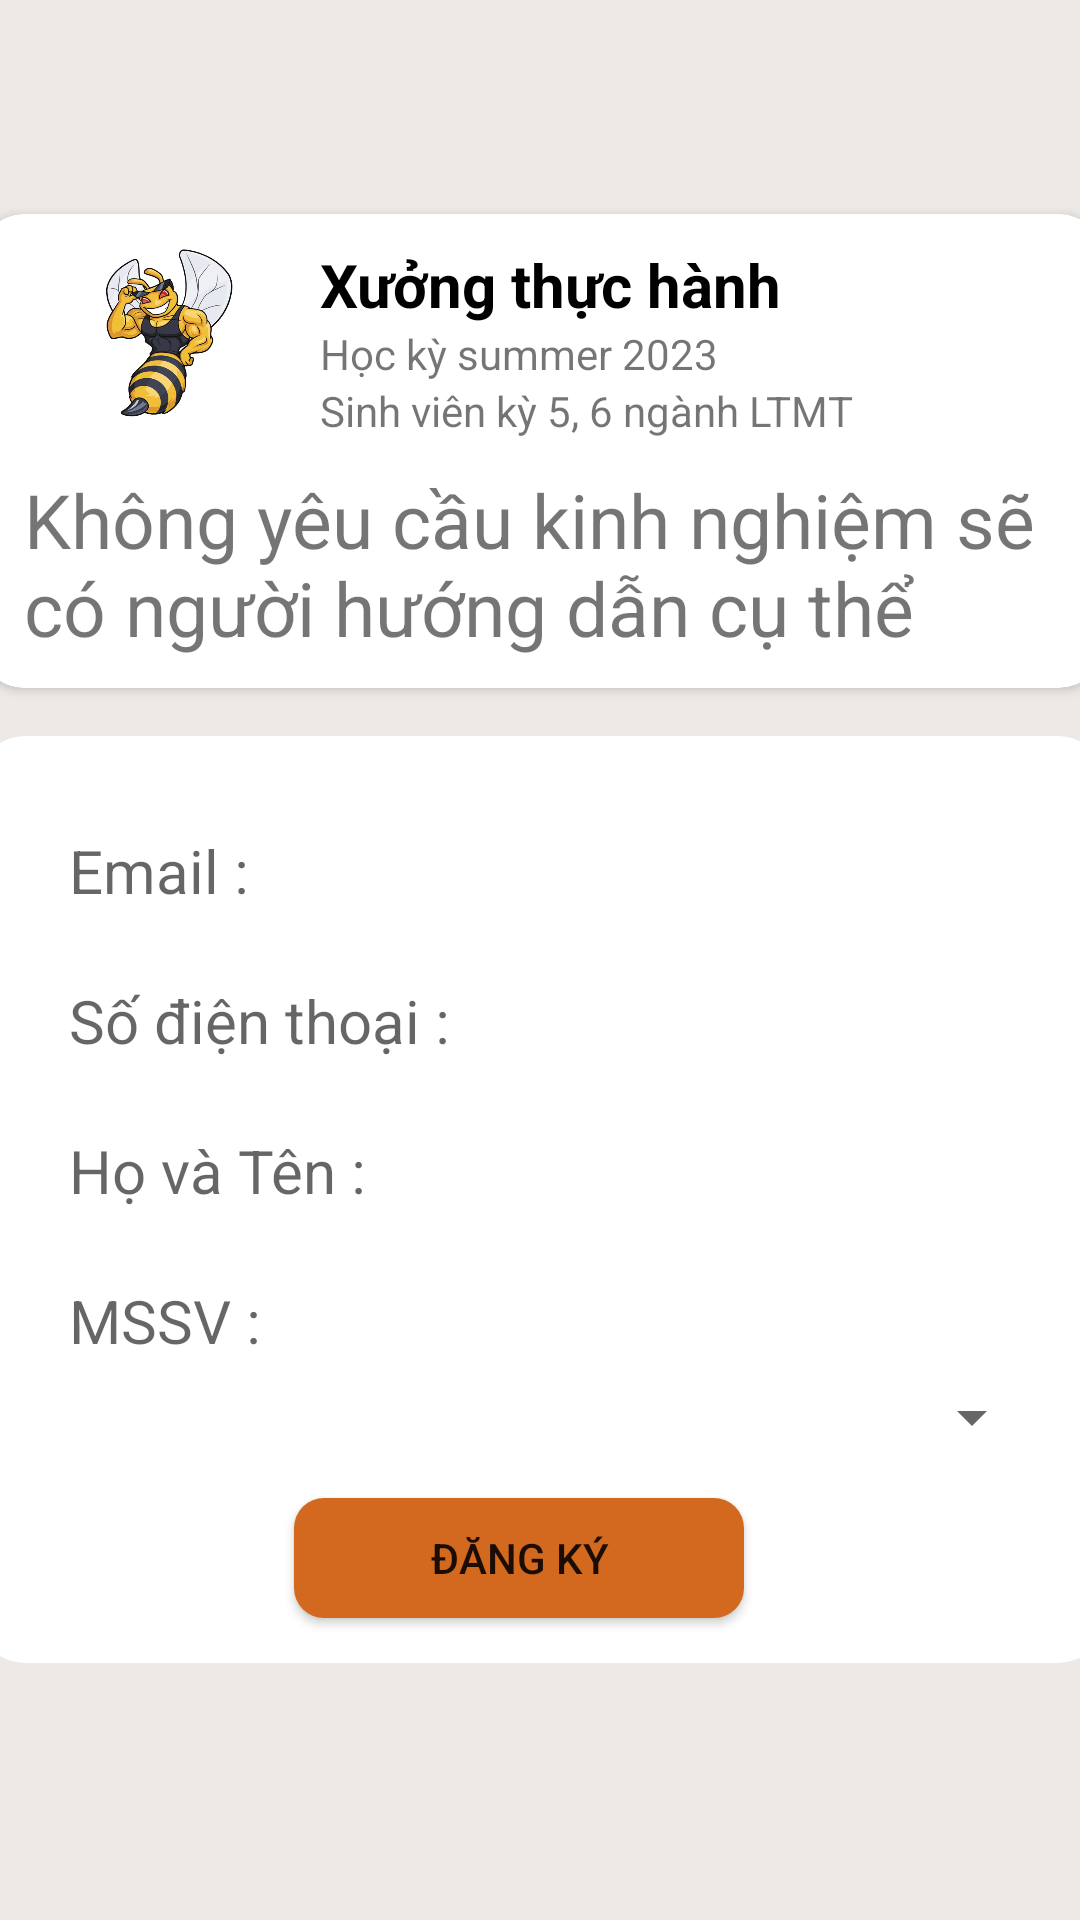

Icons on this 1080 x 1920 Android screen, each with the point to tap as (x=x, y=y):
bee: (x=169, y=333)
